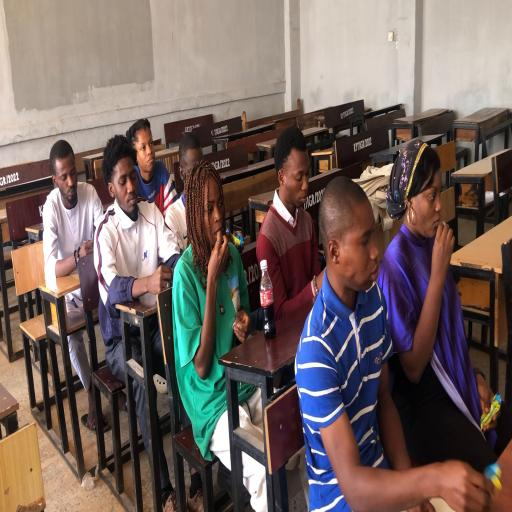Eating: (377, 139, 503, 476), (172, 166, 251, 479)
Usingmobile: (94, 134, 179, 391), (41, 140, 105, 388), (256, 125, 321, 320), (41, 139, 104, 316), (125, 119, 172, 221)
